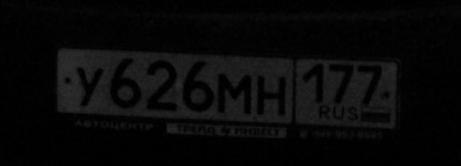license-plateSW: (56, 47, 401, 127)
